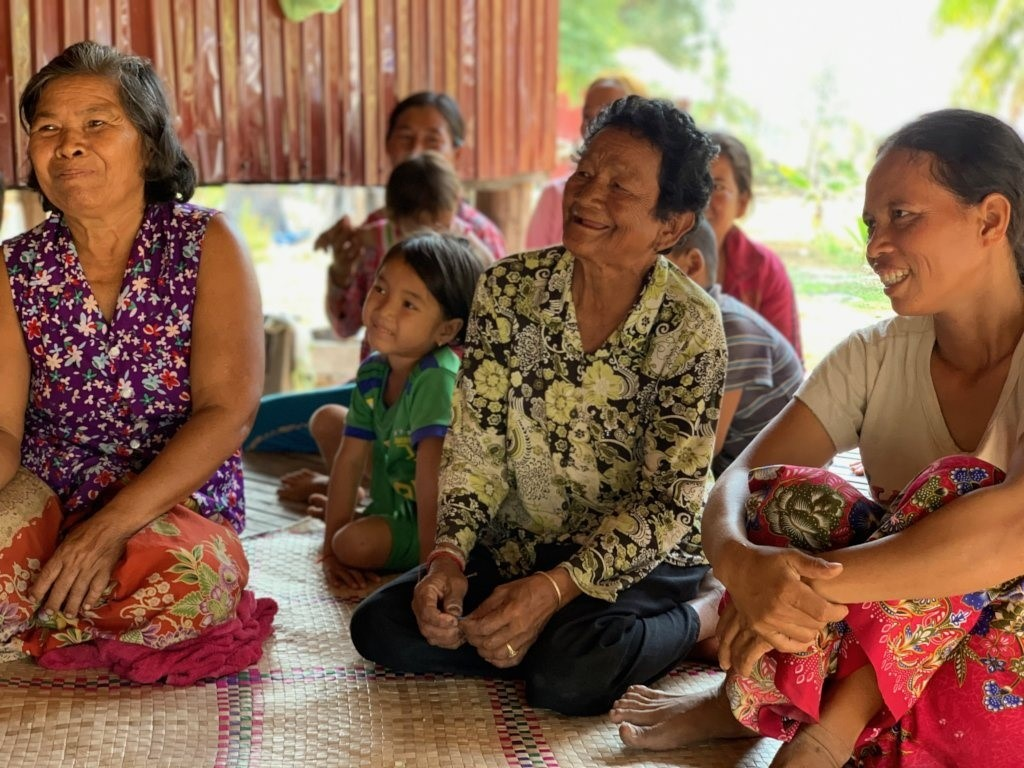face_no_mask: (860, 105, 1022, 315), (22, 44, 175, 213), (562, 98, 715, 256), (365, 226, 492, 354), (381, 91, 466, 171)
